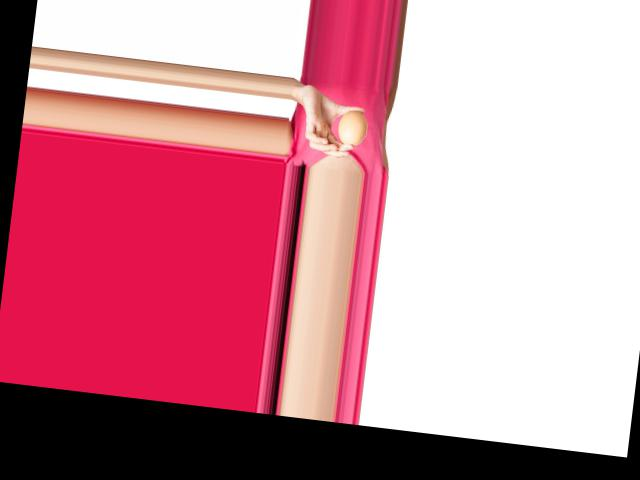egg: (336, 108, 368, 148)
